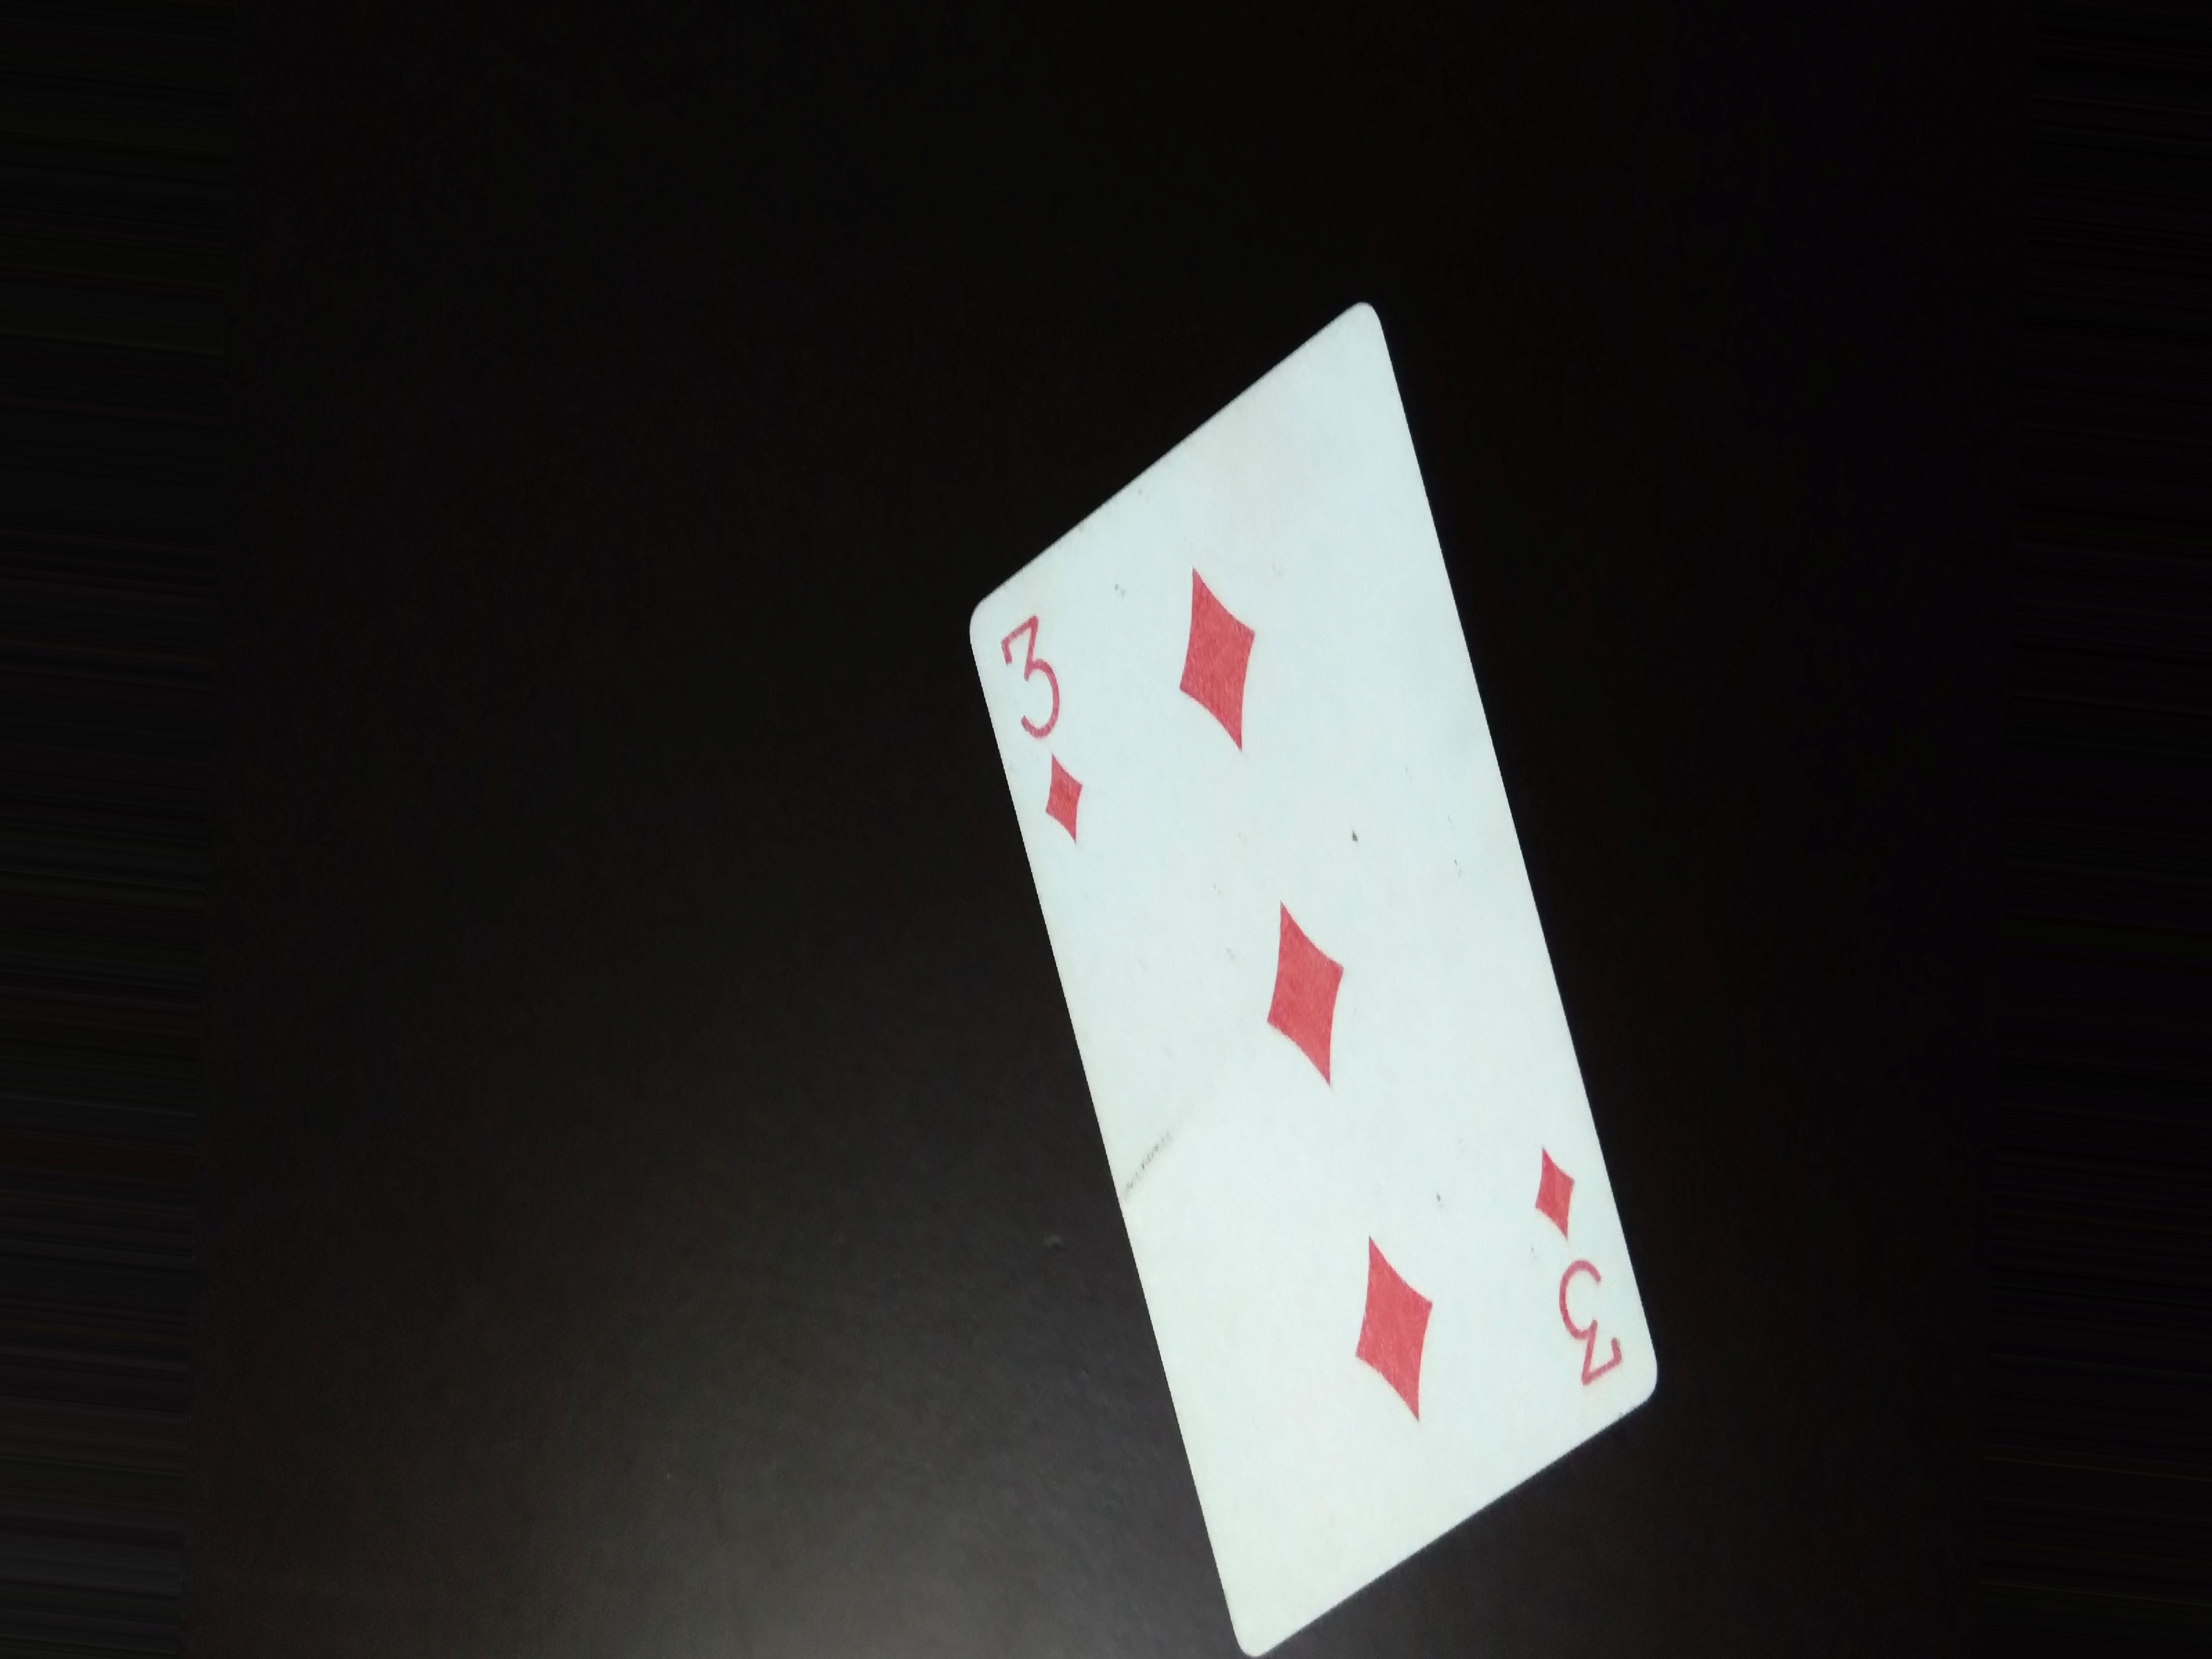3D: (986, 606, 1099, 856)
